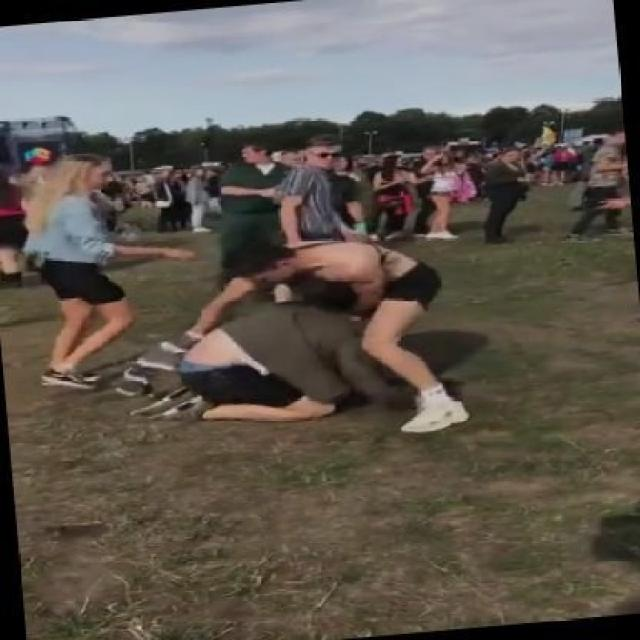fight: (156, 194, 476, 478)
non-fight: (0, 140, 174, 409)
